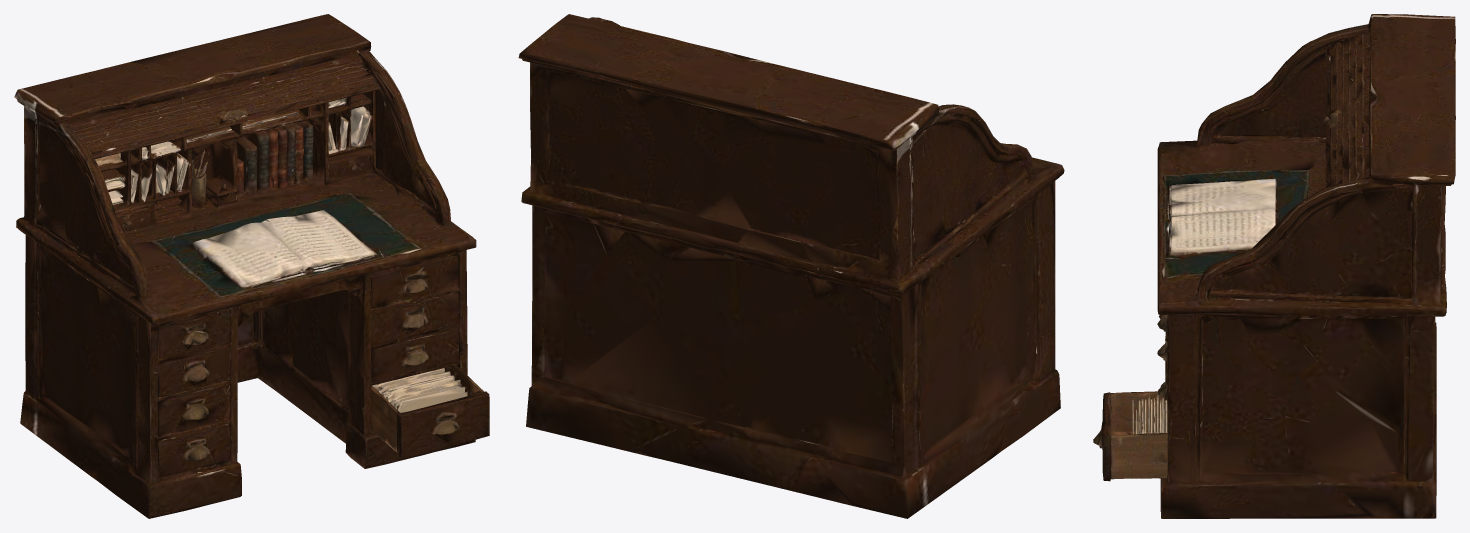
File: desk.glb
3 renders of one model, left to right at view 1: azimuth 30°, elevation 25°; view 2: azimuth 150°, elevation 25°; view 3: azimuth 270°, elevation 25°, orthographic. The views are drawn at different scales.
Bounding box in the file's own units: 1.9 × 1.84 × 1.75.
Materials: 1 (1 with a texture image).
